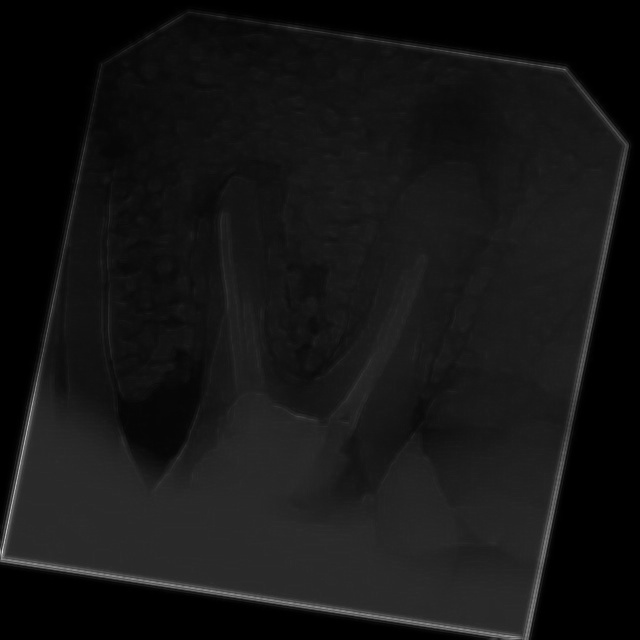Class 1- complete endodontic treatment: (70, 97, 548, 615)
